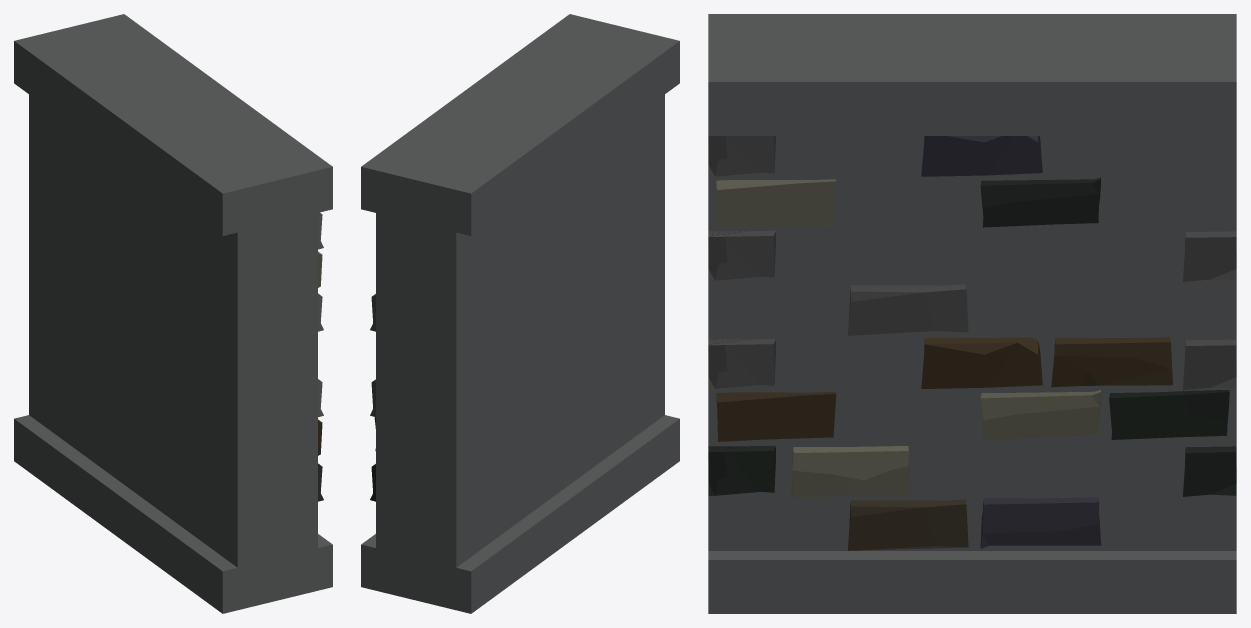
File: Wall5.fbx
The picture shows the model from 3 angles, left to right: view 1: azimuth 30°, elevation 25°; view 2: azimuth 150°, elevation 25°; view 3: azimuth 270°, elevation 25°; orthographic projection. The views are drawn at different scales.
Parts seen in each view (by area): view 1: Cube.280; view 2: Cube.280; view 3: Cube.280.
Part boxes in pixels (x1=…): Cube.280: x1=14, y1=14, x2=332, y2=613; Cube.280: x1=361, y1=14, x2=679, y2=613; Cube.280: x1=708, y1=14, x2=1236, y2=613.
Bounding box in the file's own units: 137 × 500 × 450.
